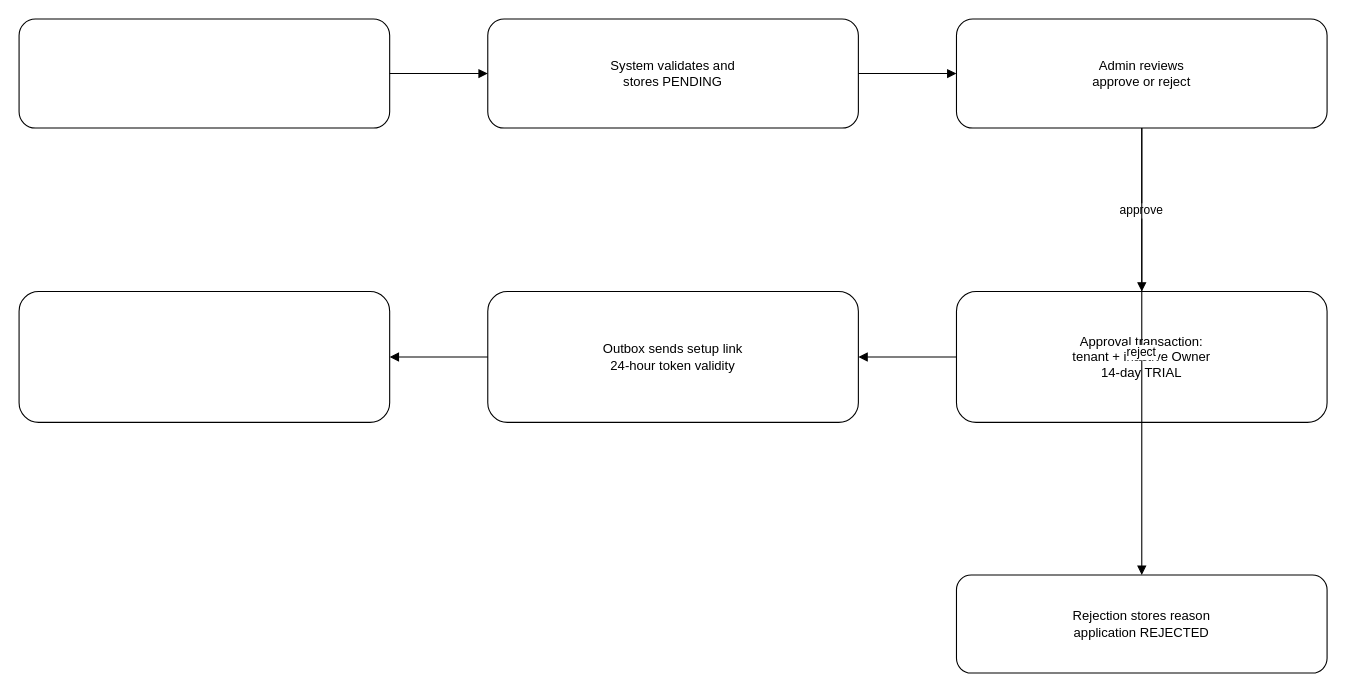
Some shapes in this 1346 by 692 pixel diagram are drawn without their labels. The shapes that lost their labels are listed below. From the top down, each one's box as (x1, y1, x2, y2) in pixels, then its label:
(18, 18, 390, 128): Applicant submits business details
(18, 290, 390, 422): Owner sets password then signs in
